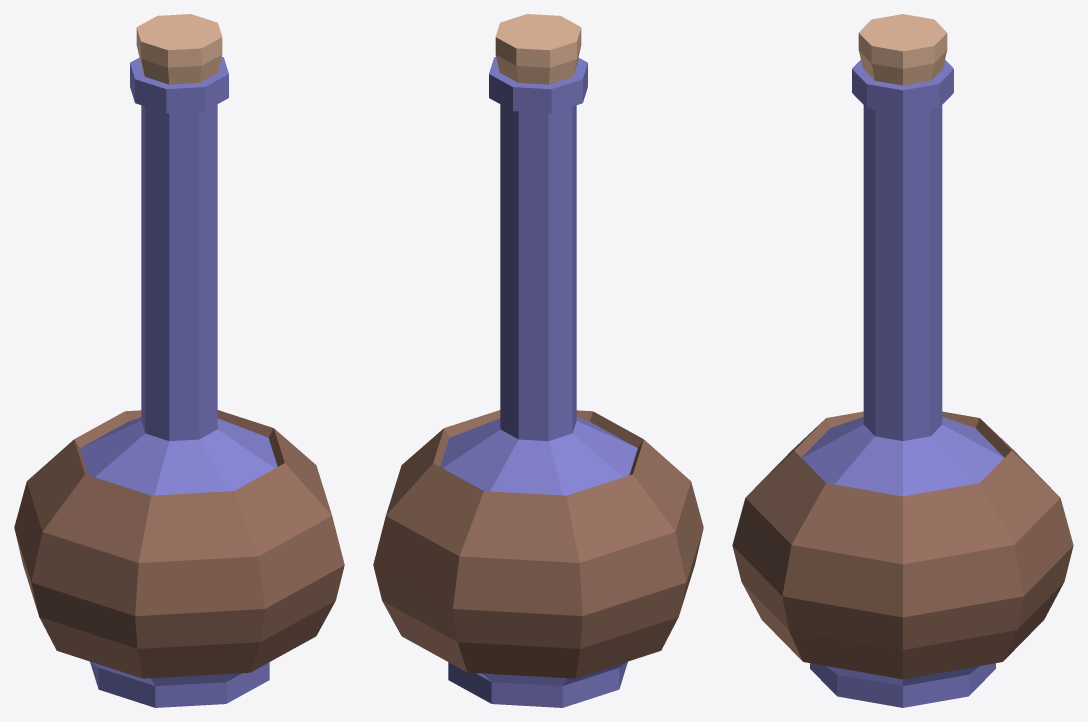
The model's file is Potion F.fbx.
3 views of the same model, side by side, from view 1: azimuth 30°, elevation 25°; view 2: azimuth 150°, elevation 25°; view 3: azimuth 270°, elevation 25° (orthographic).
Parts seen in each view (by area): view 1: Potion F; view 2: Potion F; view 3: Potion F.
Part boxes in pixels (x1,y1,x2,y2): Potion F: (14,14,344,707); Potion F: (373,14,703,707); Potion F: (732,14,1073,707).
Size of the model in its own units: 21.47 by 44.15 by 21.47.
